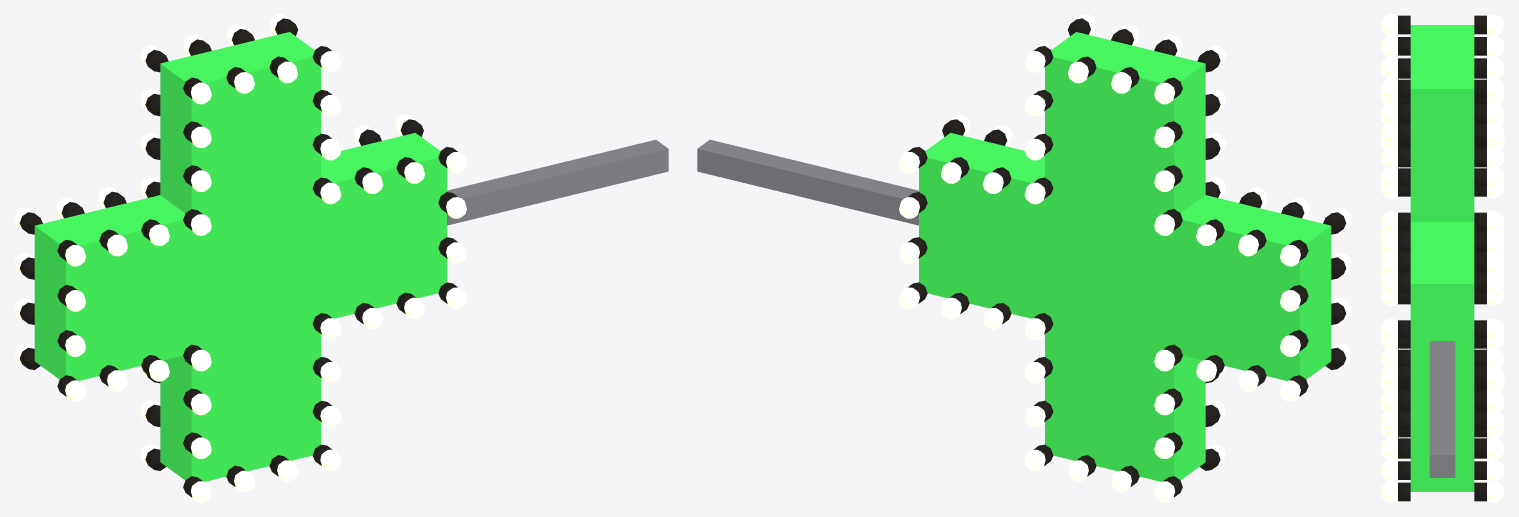
File: pharmacy_cross.glb
3 renders of one model, left to right at view 1: azimuth 30°, elevation 25°; view 2: azimuth 150°, elevation 25°; view 3: azimuth 270°, elevation 25°, orthographic.
Visible parts, largest first — view 1: Sign, BulbsA, BulbsB; view 2: Sign, BulbsA, BulbsB; view 3: Sign, BulbsA, BulbsB.
Part boxes in pixels (x1,y1,x2,y2): Sign: (19,18,668,497); BulbsA: (14,14,466,502); BulbsB: (14,17,466,502); Sign: (697,18,1346,497); BulbsA: (899,14,1351,502); BulbsB: (899,16,1351,500); Sign: (1398,15,1486,501); BulbsA: (1380,14,1504,502); BulbsB: (1380,35,1504,481).
Bounding box in the file's own units: 2.28 × 1.47 × 0.392.
2 materials, 1 textured.
